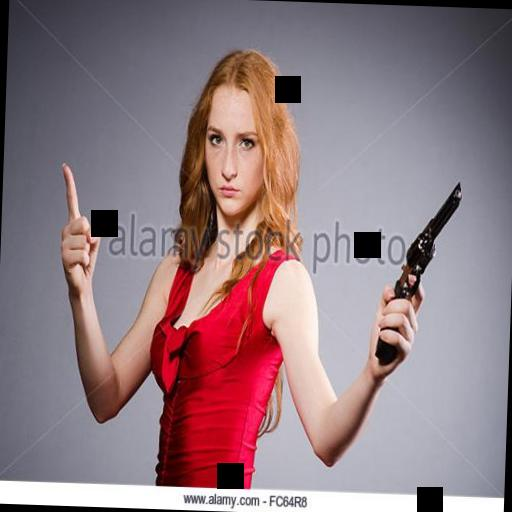Handgun: (367, 167, 463, 369)
